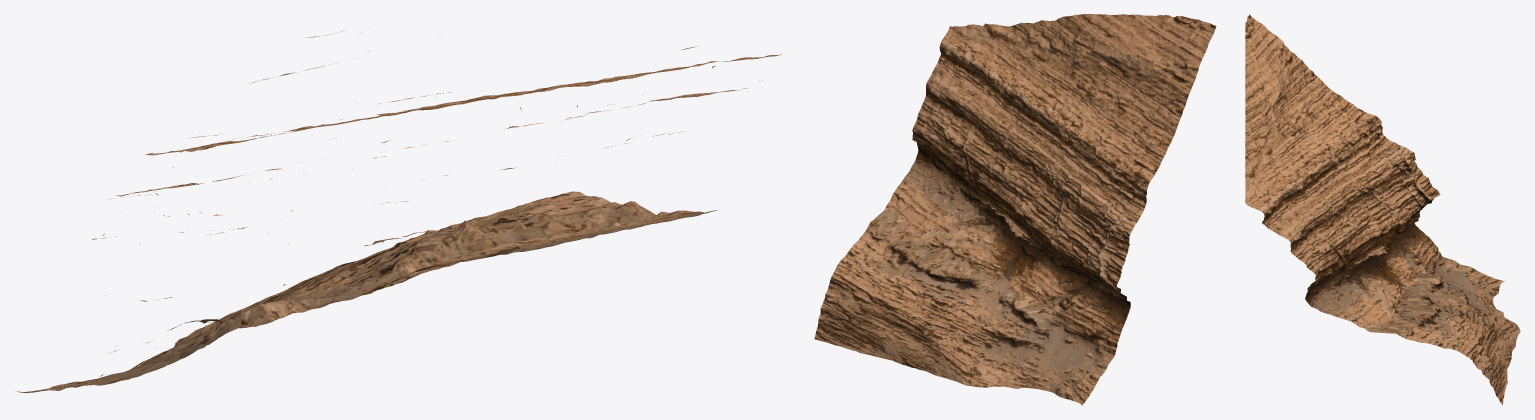
The picture shows the model from 3 angles, left to right: view 1: azimuth 30°, elevation 25°; view 2: azimuth 150°, elevation 25°; view 3: azimuth 270°, elevation 25°; orthographic projection. The views are drawn at different scales.
Size of the model in its own units: 2.09 by 2.09 by 1.95.
Materials: 4 (4 with a texture image).
